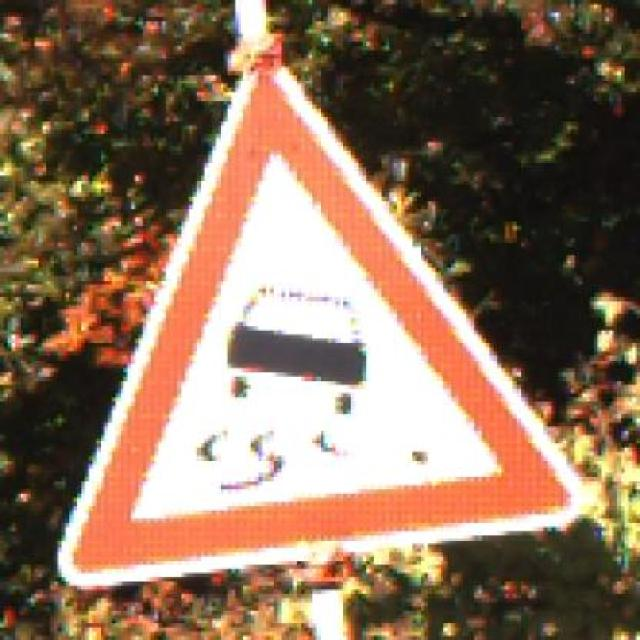Slippery Road Ahead: (34, 67, 601, 590)
